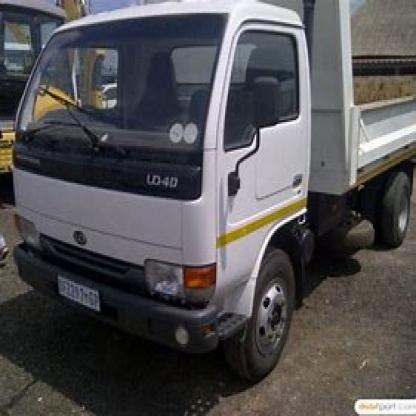dump_truck: (19, 11, 415, 381)
